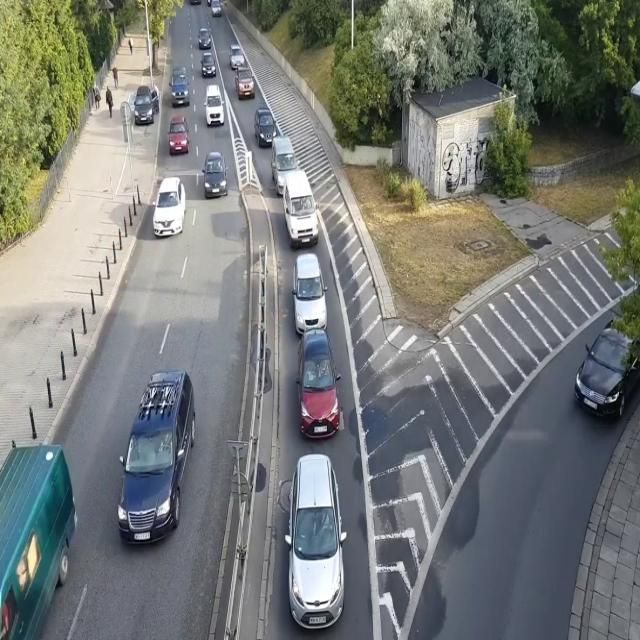car: (116, 371, 196, 549), (283, 453, 348, 628), (572, 313, 640, 419), (295, 327, 343, 441), (292, 253, 328, 337), (152, 175, 186, 238), (202, 152, 228, 199), (133, 86, 159, 125), (166, 115, 190, 156), (254, 106, 277, 148), (204, 85, 225, 127), (234, 67, 255, 100), (200, 52, 217, 78), (229, 43, 245, 69), (198, 27, 212, 50), (211, 0, 222, 17), (207, 0, 216, 5)
truck: (189, 0, 202, 5)
van: (0, 445, 77, 640), (282, 170, 320, 249), (270, 136, 300, 197), (169, 66, 191, 108)
